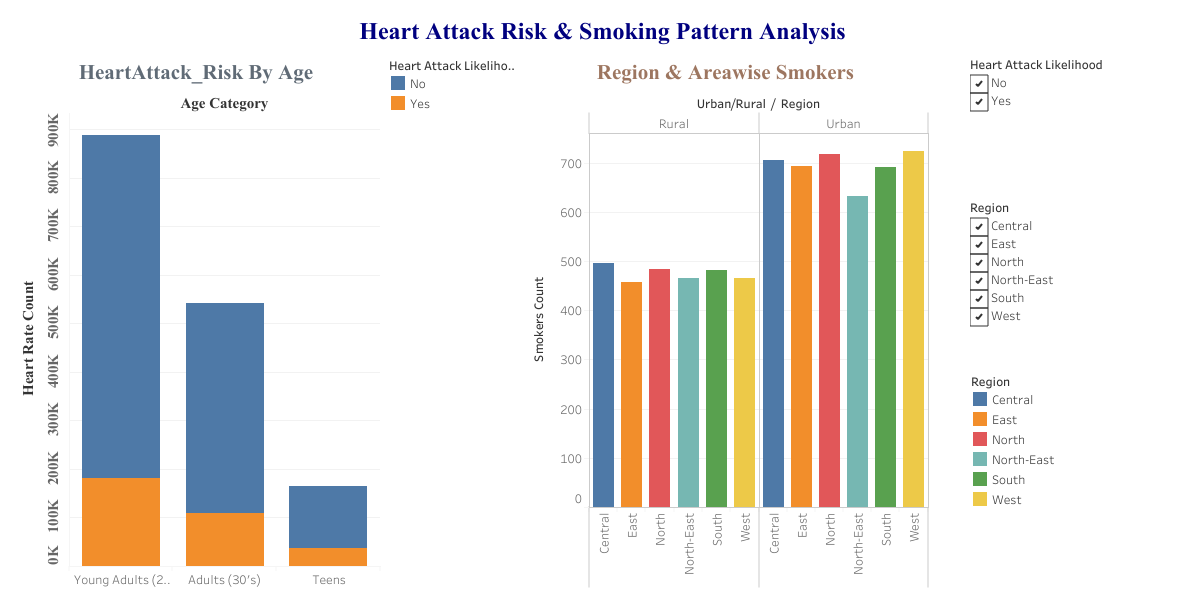

The page's visual inventory and layout, read from the dashboard file:
{"tool":"tableau","page":{"name":"Dashboard 2","canvas":[1200,600],"ordinal":1},"visuals":[{"type":"title","box":[8,8,1184,42]},{"type":"worksheet","title":"Sheet 4","mark":"Automatic","rows":["Maximum Heart Rate Achieved"],"cols":["Age_Category"],"box":[8,50,376,542]},{"type":"legend","title":"Sheet 4","param":"[federated.0xmsiim08rcw0m1774rh319un32k].[none:Heart Attack Likelihood:nk]","box":[384,50,134,542]},{"type":"worksheet","title":"Sheet 5","mark":"Automatic","rows":["Smoking_score"],"cols":["Urban/Rural","Region"],"box":[518,50,415,542]},{"type":"filter","title":"Sheet 4","param":"[federated.0xmsiim08rcw0m1774rh319un32k].[none:Heart Attack Likelihood:nk]","box":[965.7,50,226.3,143]},{"type":"filter","title":"Sheet 5","param":"[federated.0xmsiim08rcw0m1774rh319un32k].[none:Region:nk]","box":[965.7,193,226.3,165]},{"type":"legend","title":"Sheet 5","param":"[federated.0xmsiim08rcw0m1774rh319un32k].[none:Region:nk]","box":[965.7,358,226.3,146]}]}

Visuals, with their boxes in screenshot pixels (x1, y1, x2, y2), scaled from the page's 1200x600 canvas onto the 1199x599 screenshot:
title: (x1=8, y1=8, x2=1191, y2=50)
"Sheet 4" worksheet: (x1=8, y1=50, x2=384, y2=591)
"Sheet 4" legend: (x1=384, y1=50, x2=518, y2=591)
"Sheet 5" worksheet: (x1=518, y1=50, x2=932, y2=591)
"Sheet 4" filter: (x1=965, y1=50, x2=1191, y2=193)
"Sheet 5" filter: (x1=965, y1=193, x2=1191, y2=357)
"Sheet 5" legend: (x1=965, y1=357, x2=1191, y2=503)
